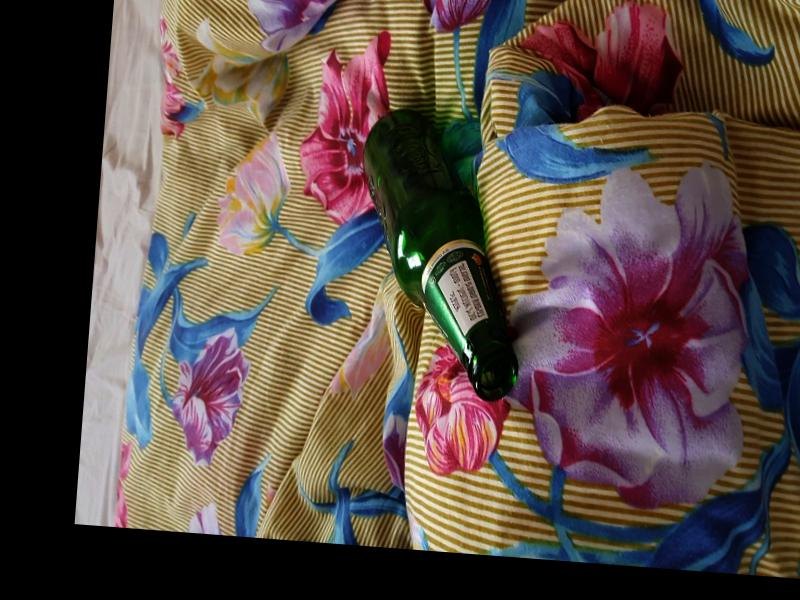Beer: (346, 110, 538, 401)
